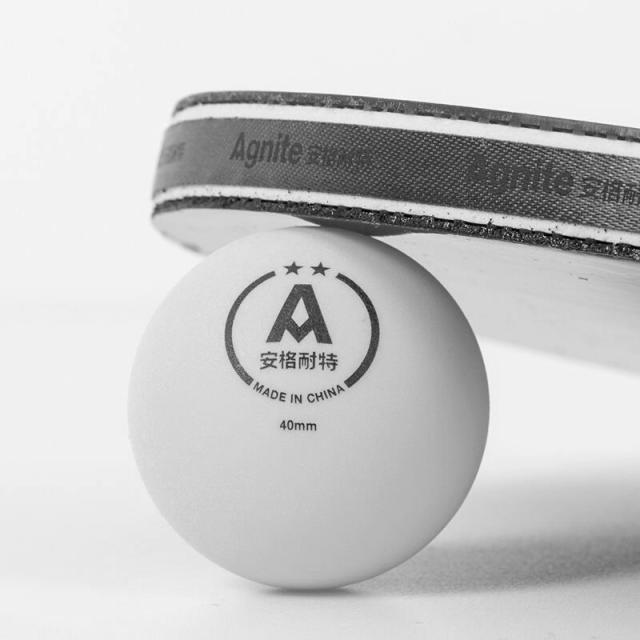ping-pong-ball: (122, 222, 494, 594)
